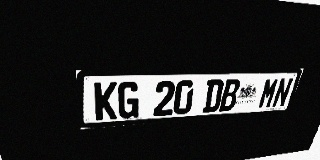0: (173, 80, 195, 115)
2: (154, 80, 176, 116)
B: (219, 79, 241, 112)
D: (202, 79, 225, 113)
G: (118, 81, 140, 119)
K: (94, 82, 117, 121)
M: (257, 78, 280, 109)
N: (271, 78, 294, 108)
